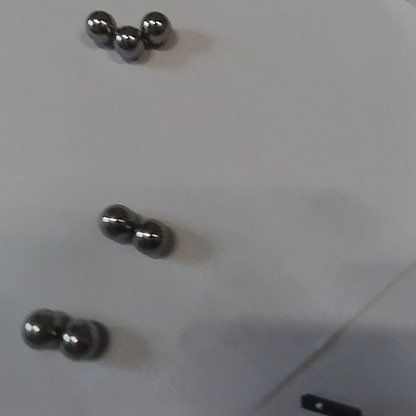ironball: (16, 306, 65, 353), (131, 217, 173, 263), (60, 319, 103, 361), (108, 23, 147, 65), (96, 203, 134, 243), (137, 10, 176, 46), (81, 3, 114, 44)
